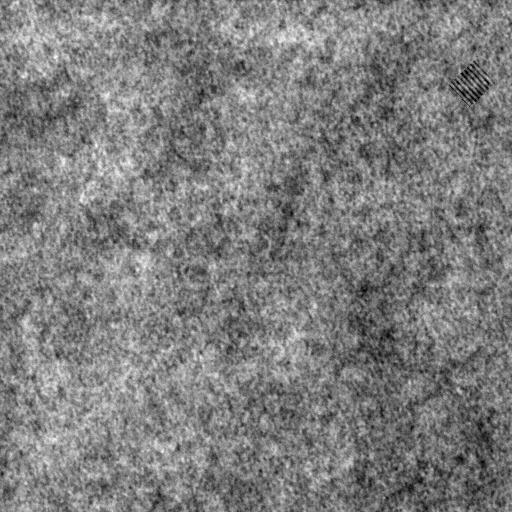DefectTypeB: (450, 61, 492, 107)
